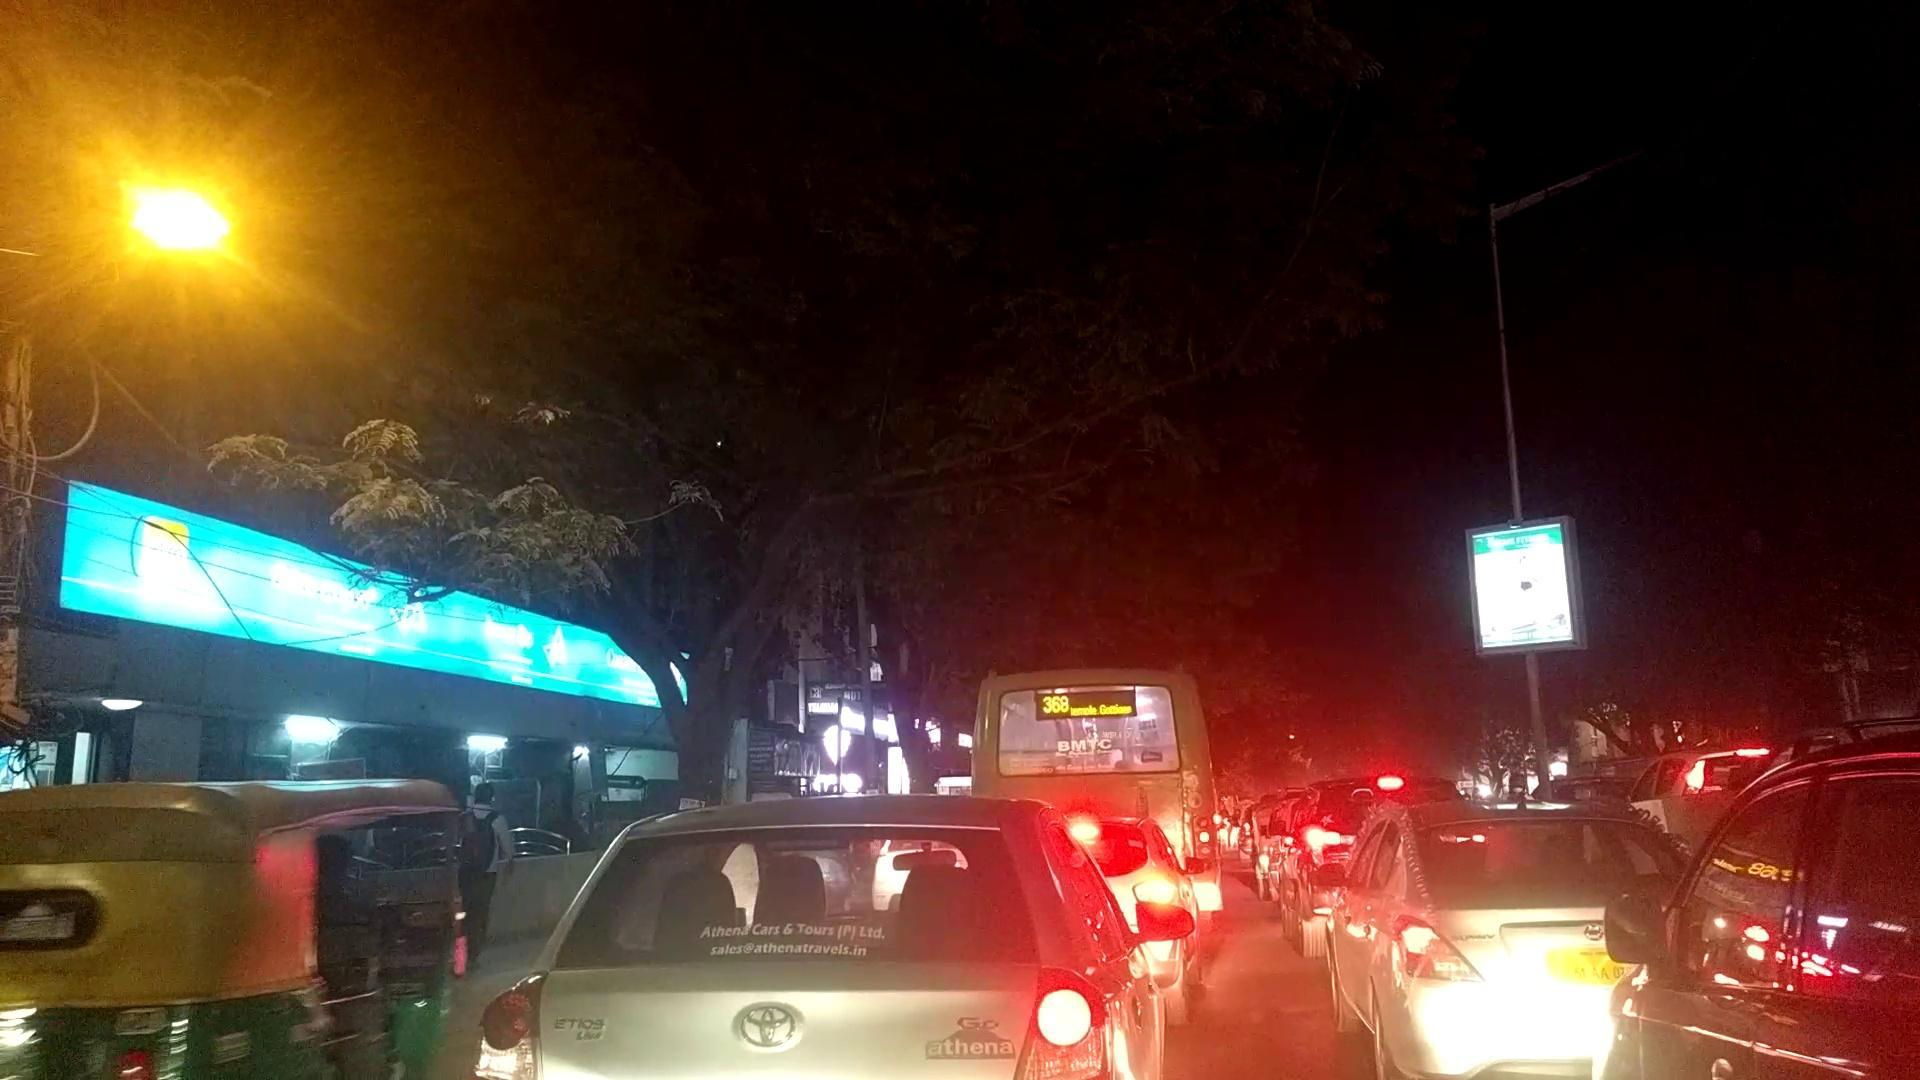on: (0, 32, 423, 419)
